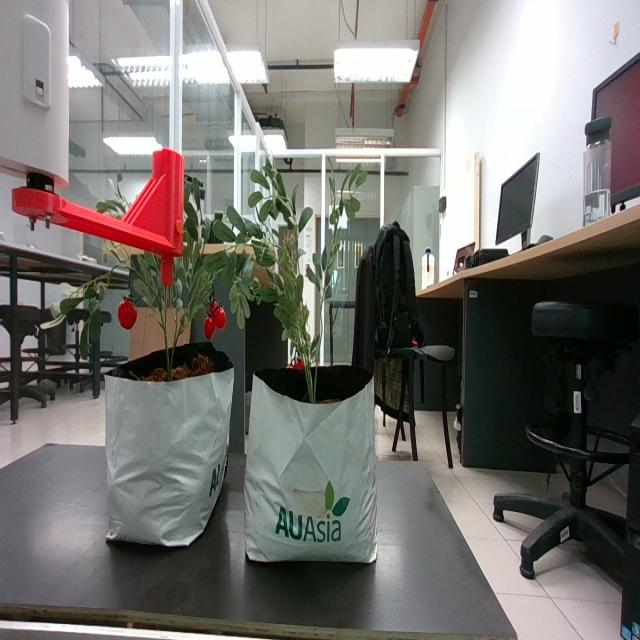EndEffector: (0, 0, 186, 287)
Soilbag: (104, 348, 235, 552), (244, 370, 378, 567)
plant: (222, 139, 368, 404), (58, 204, 236, 382)
